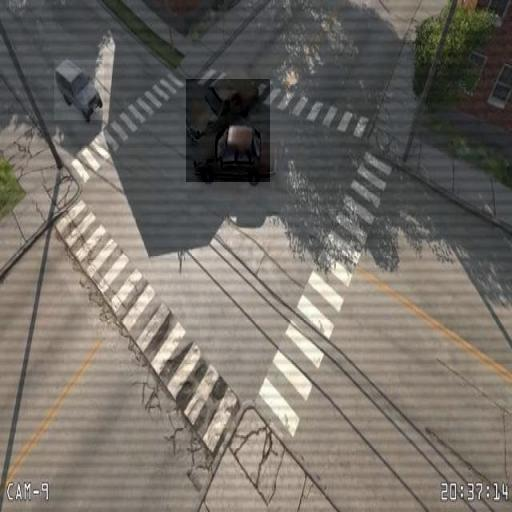小汽车: (54, 60, 104, 120)
小汽车撞小汽车: (186, 79, 270, 182)
